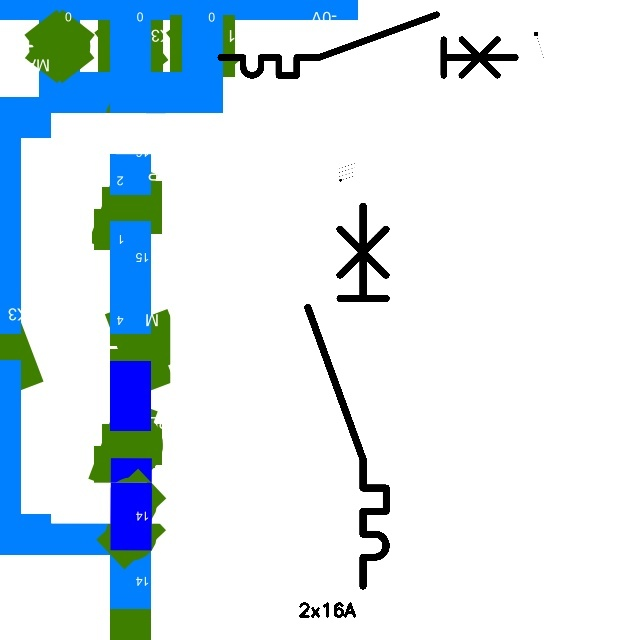interruptor_termomagnetico: (298, 196, 396, 596), (213, 7, 523, 83)
